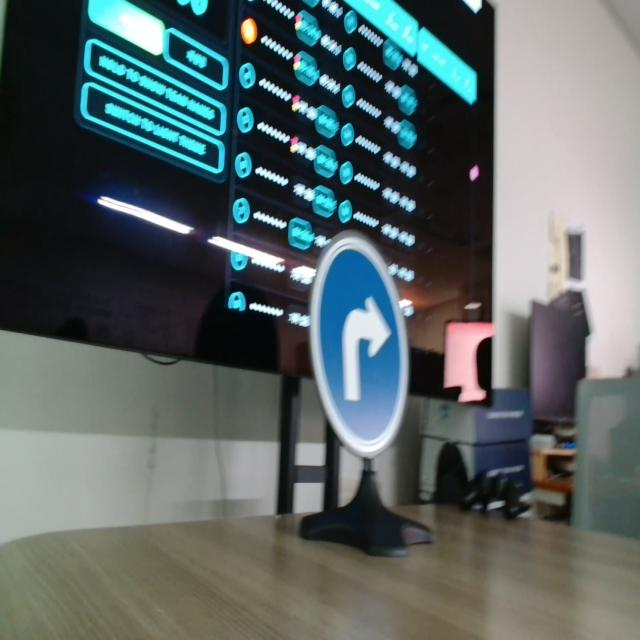right_dierection: (304, 222, 410, 454)
